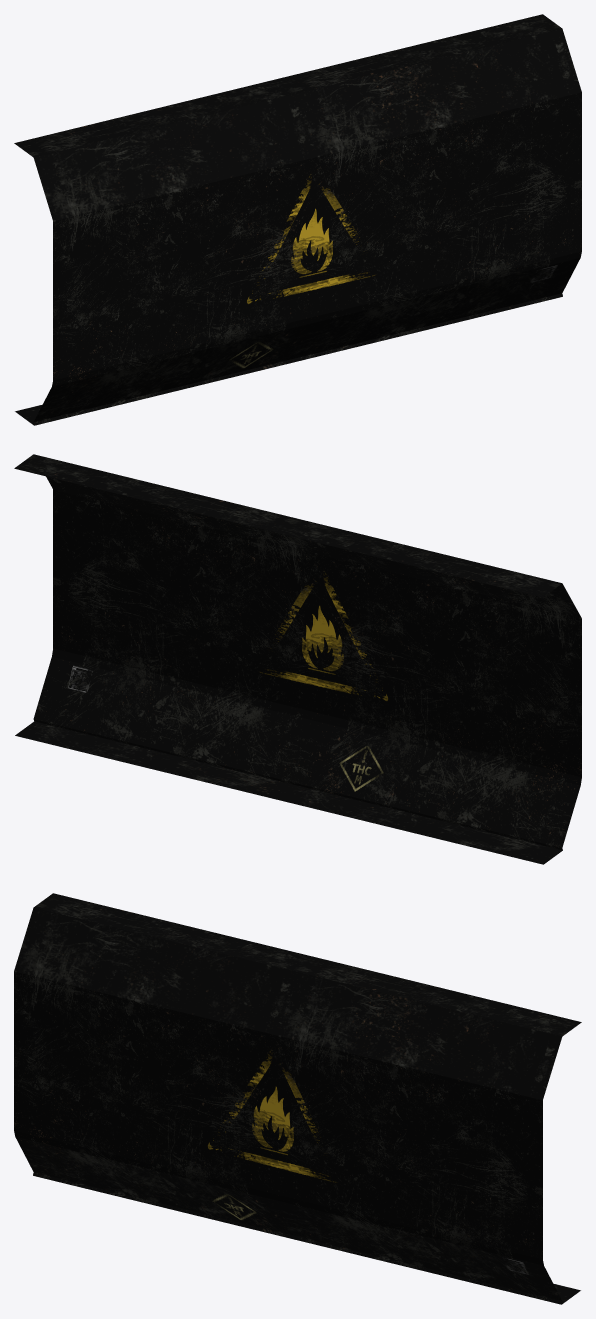
The model's file is sci-fi_wall.glb.
3 views of the same model, one above another, from view 1: azimuth 30°, elevation 25°; view 2: azimuth 150°, elevation 25°; view 3: azimuth 330°, elevation 25° (orthographic).
Visible parts, largest first — view 1: Line007; view 2: Line007; view 3: Line007.
Boxes of the visible parts, box(x1,y1,x2,y2) form: Line007: box(14, 14, 581, 425); Line007: box(14, 454, 581, 864); Line007: box(14, 893, 581, 1304).
Size of the model in its own units: 257 by 124 by 32.89.
1 material, 1 textured.
